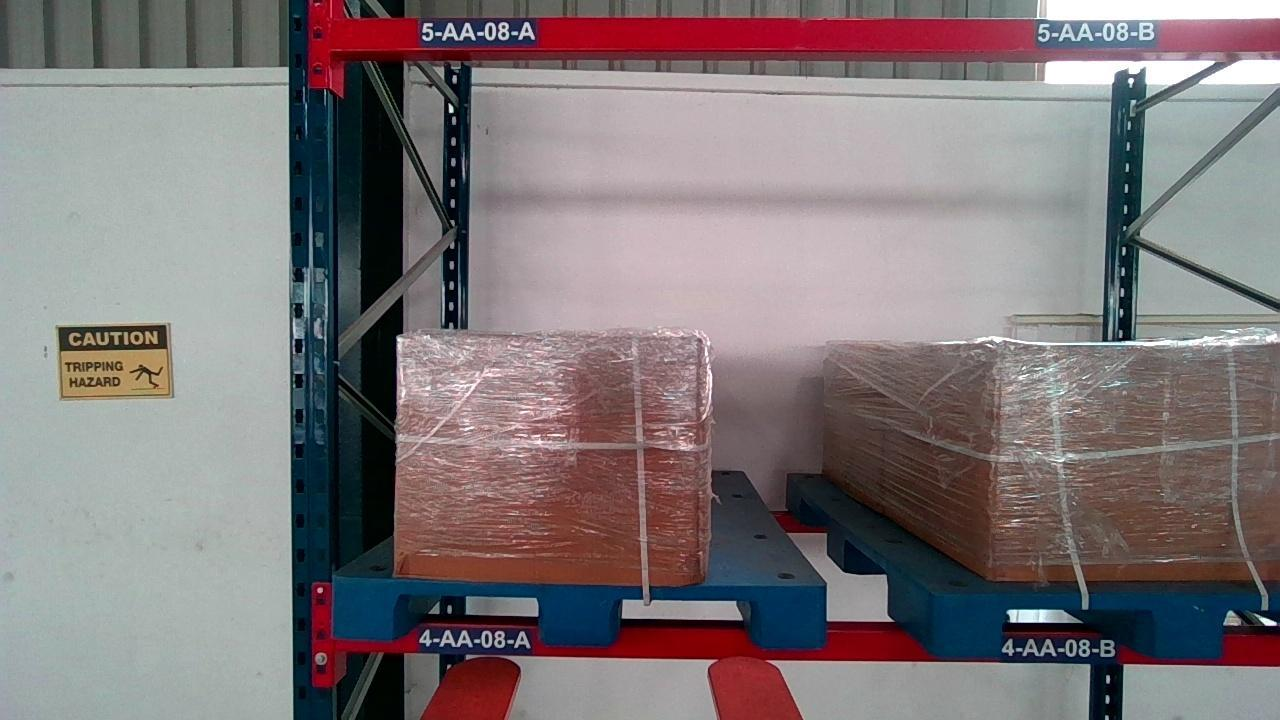h_rack: (329, 622, 1280, 667), (326, 17, 1280, 53)
small_pallet: (328, 574, 826, 647), (943, 592, 1274, 657)
